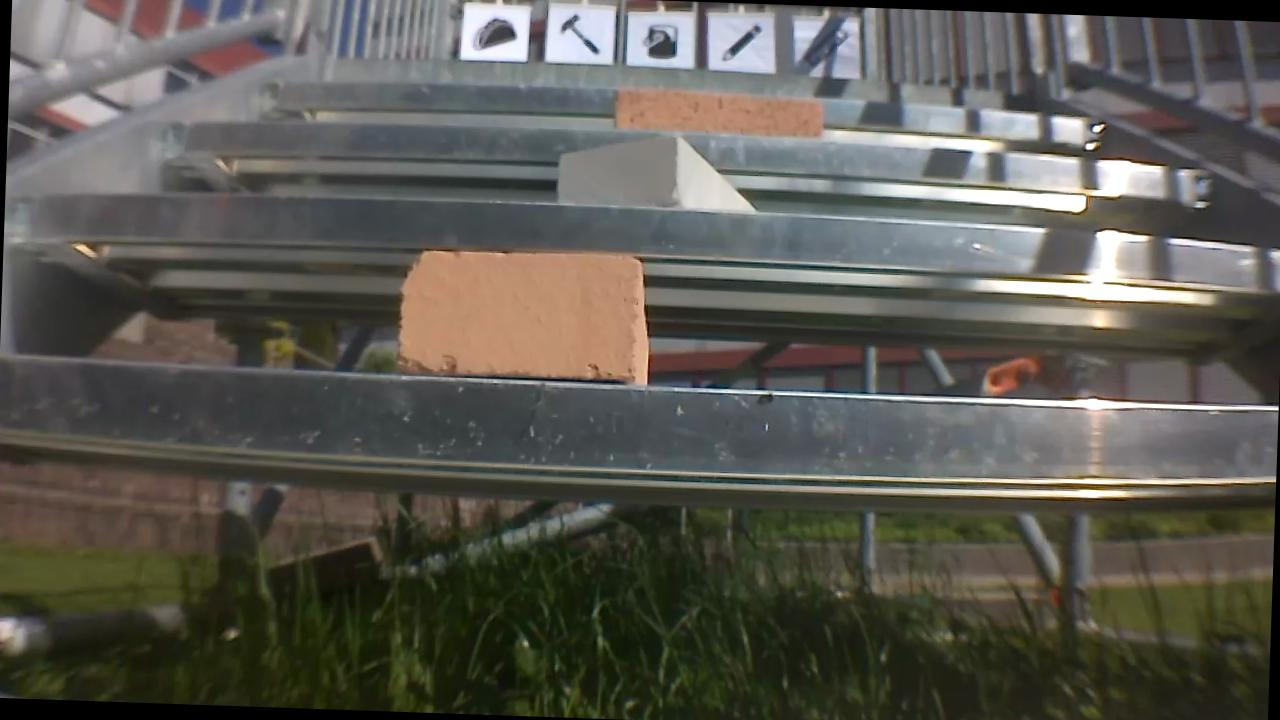brick: (390, 246, 650, 383), (550, 132, 769, 207), (614, 92, 822, 141)
edge: (0, 359, 1278, 484), (13, 173, 1280, 291), (126, 116, 1219, 201), (255, 81, 1117, 142), (304, 58, 1060, 116)
